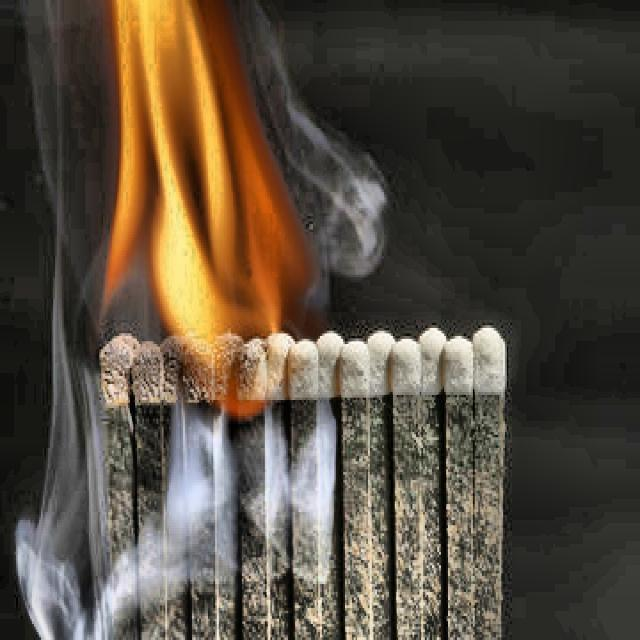Fire: (85, 0, 322, 415)
